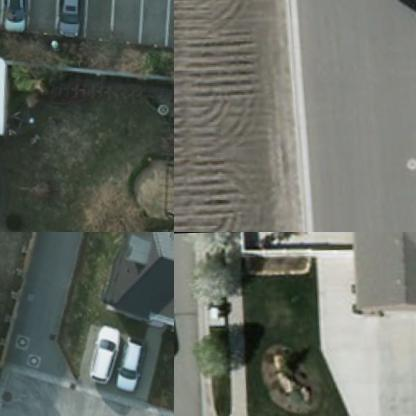car: (89, 318, 124, 380), (112, 338, 145, 388), (54, 0, 91, 37), (0, 0, 31, 30), (381, 0, 415, 27)
